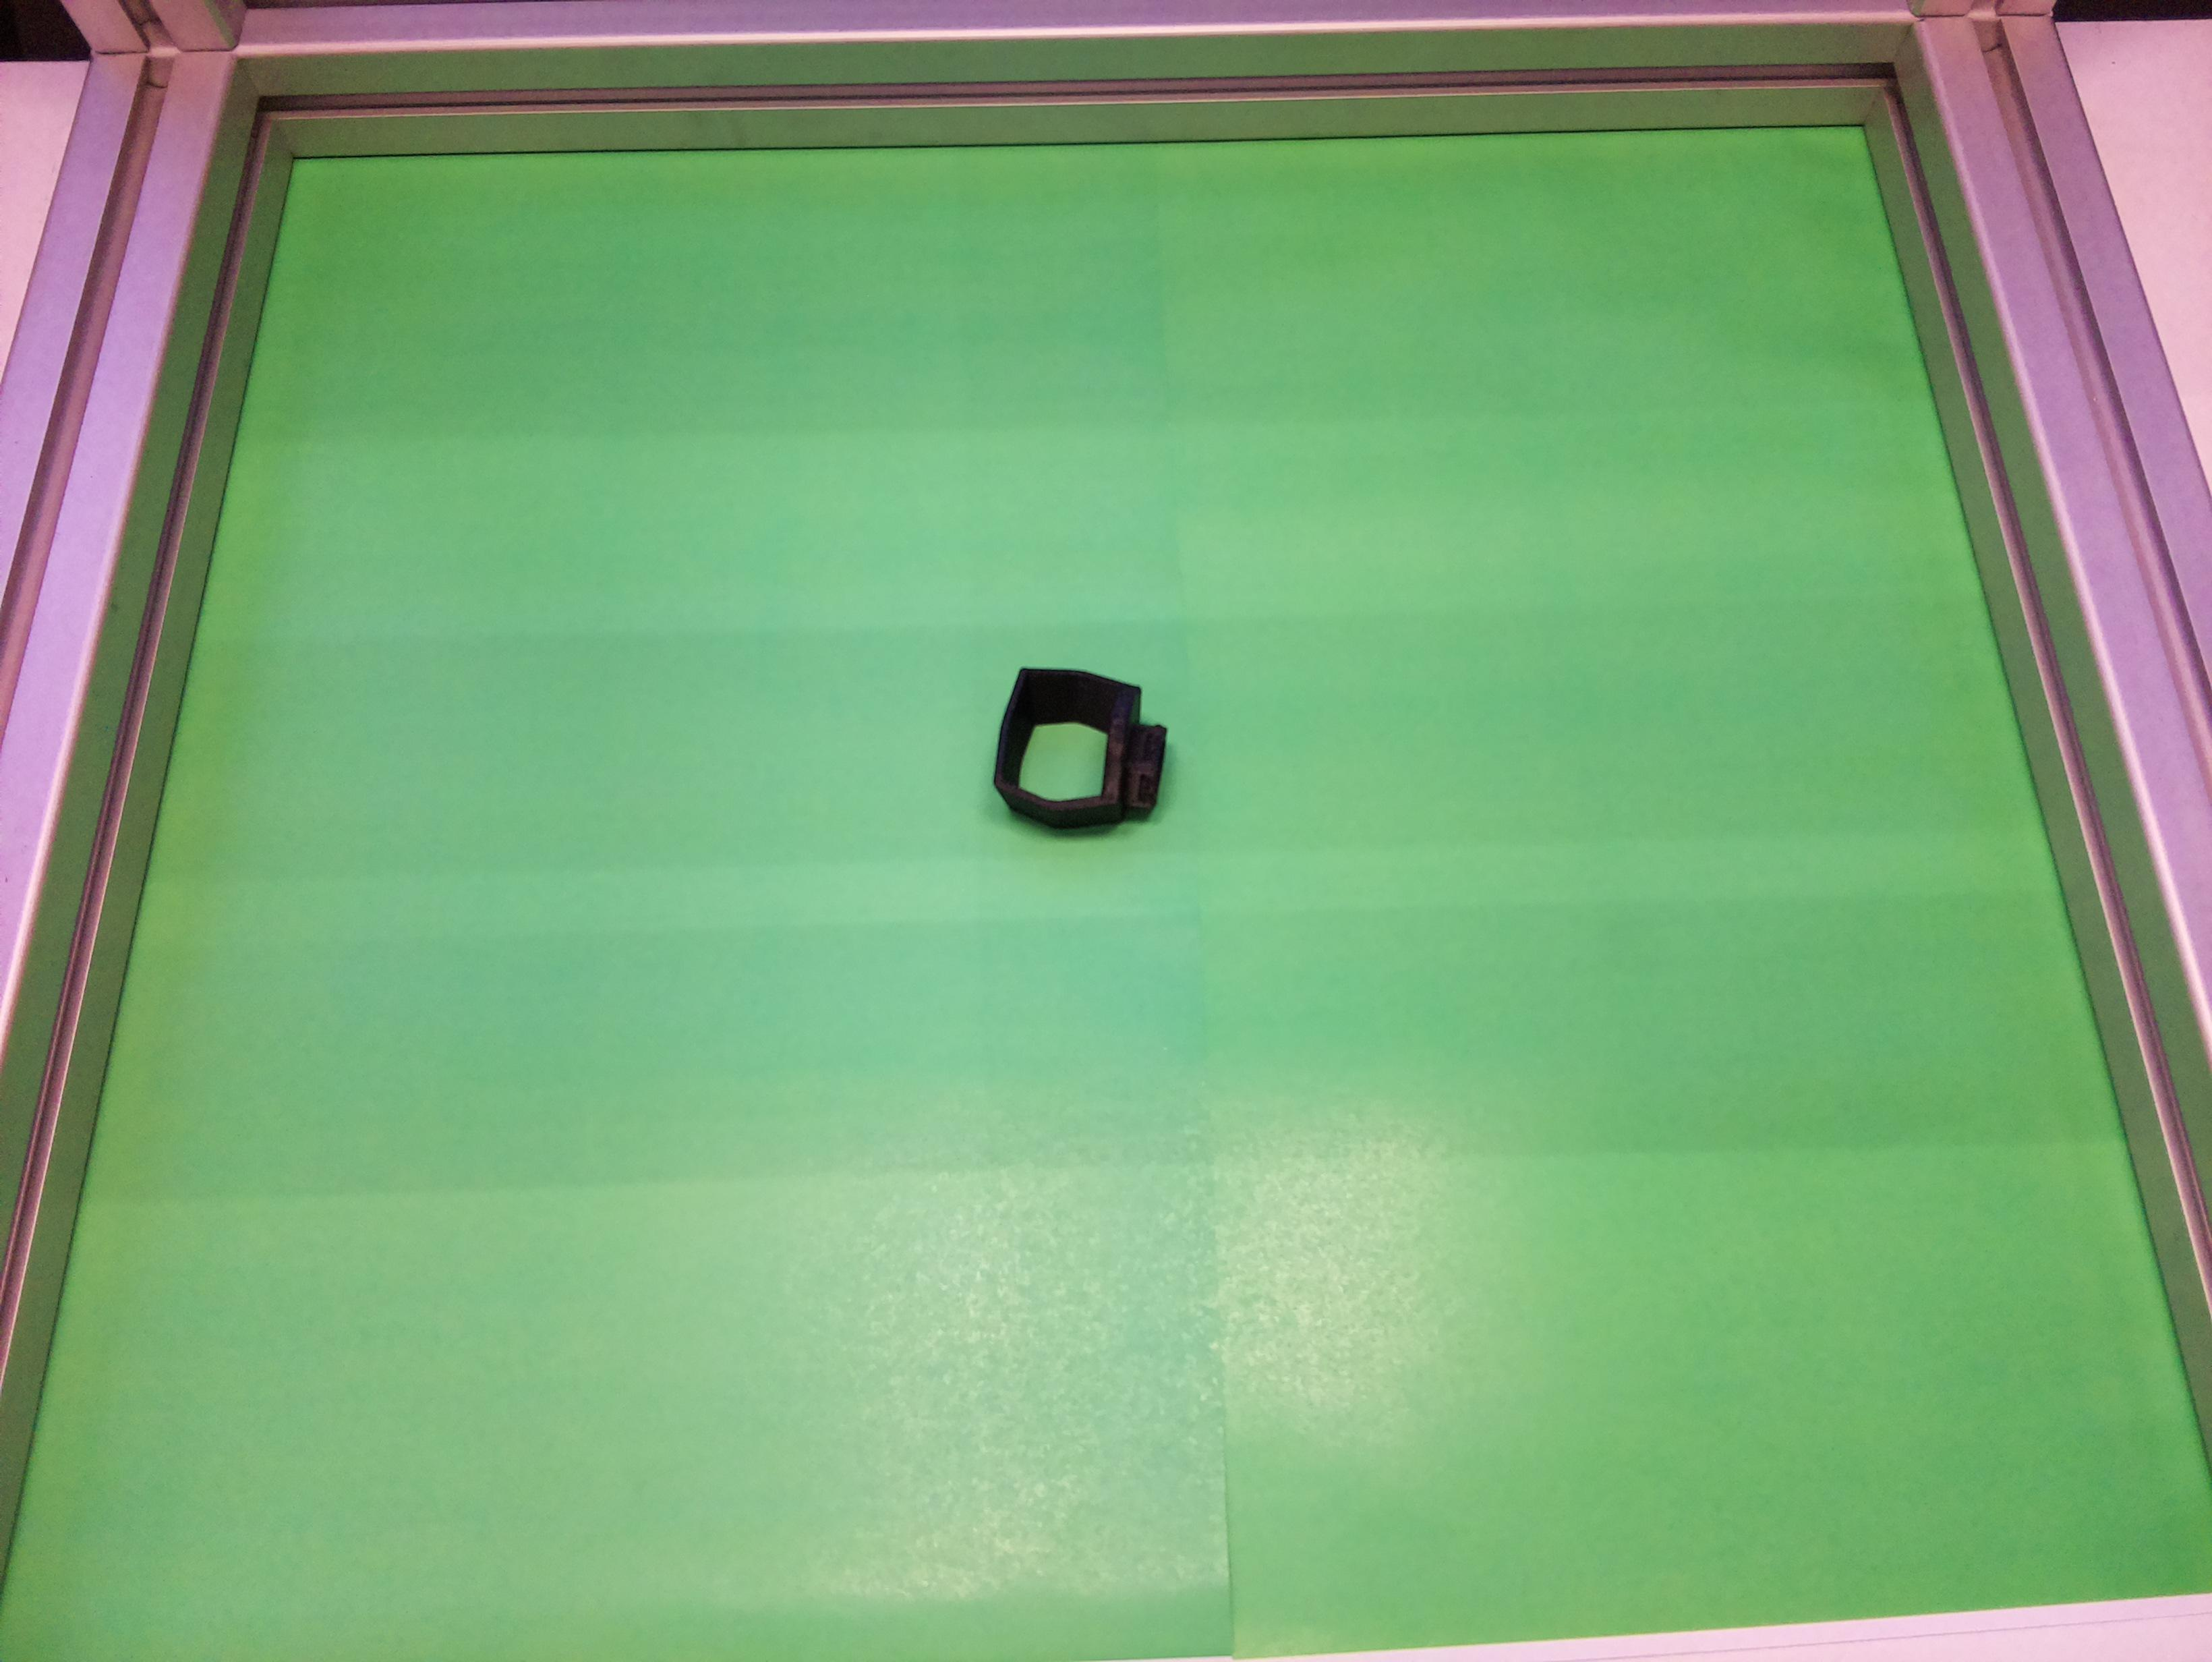scissor_holder: (992, 667, 1171, 840)
